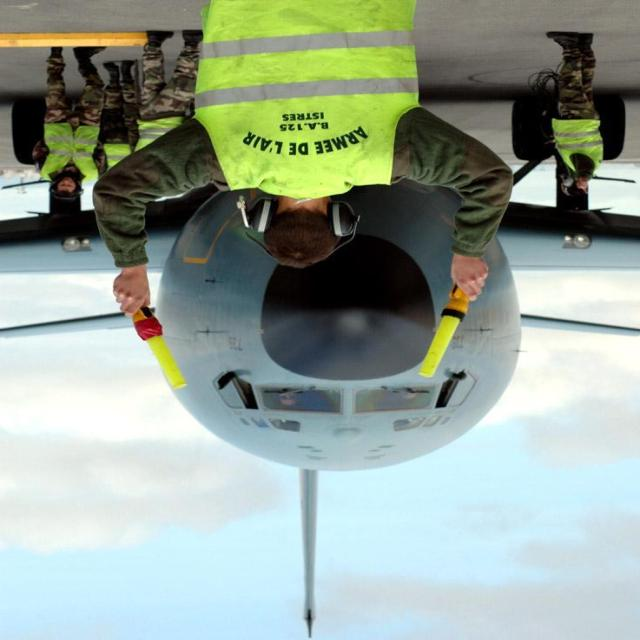jacket: (182, 0, 428, 204), (38, 125, 114, 183), (550, 119, 613, 174)
